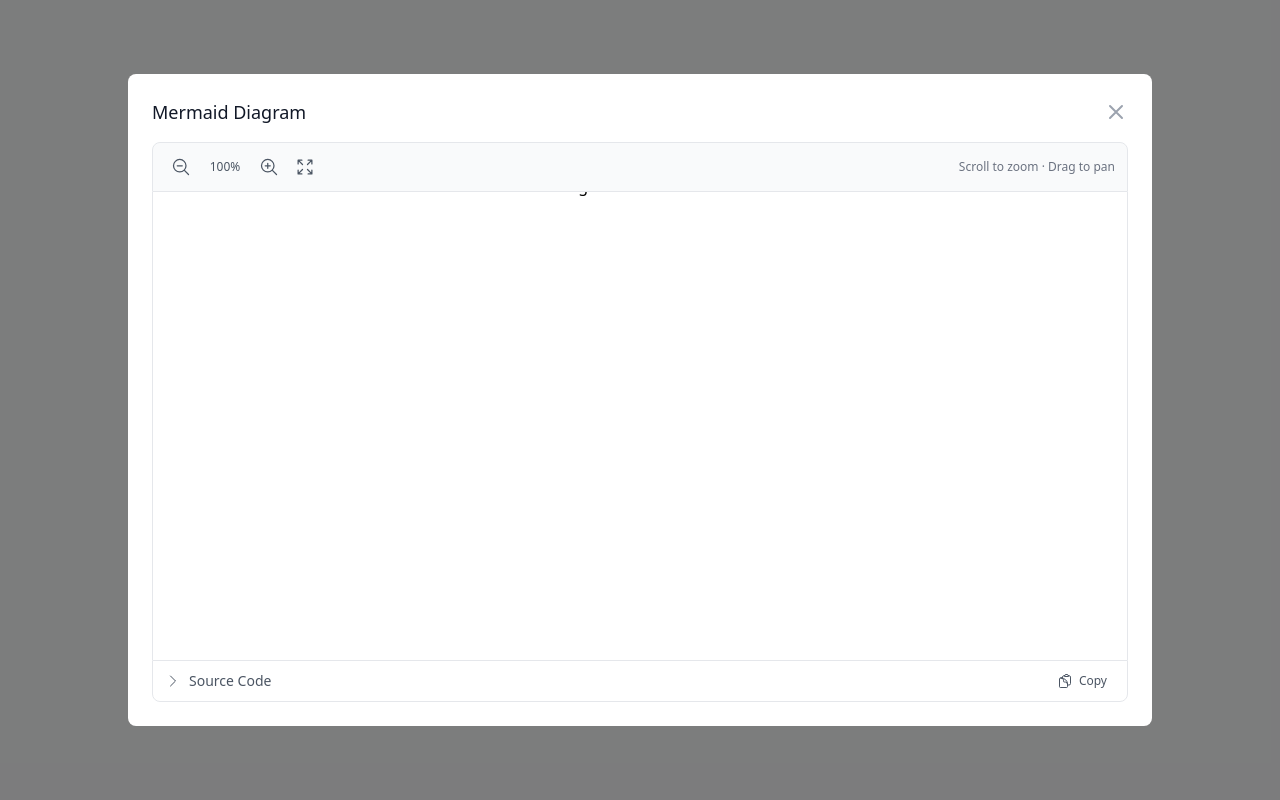
Scenario: MermaidDiagramModal › updates zoom percentage when zooming out
The width and height of the screenshot is (1280, 800).
What coordinates should you click on to do the following:
click the button named "Zoom out"
I would click on:
 (181, 167)
Its box is [165, 151, 197, 183].
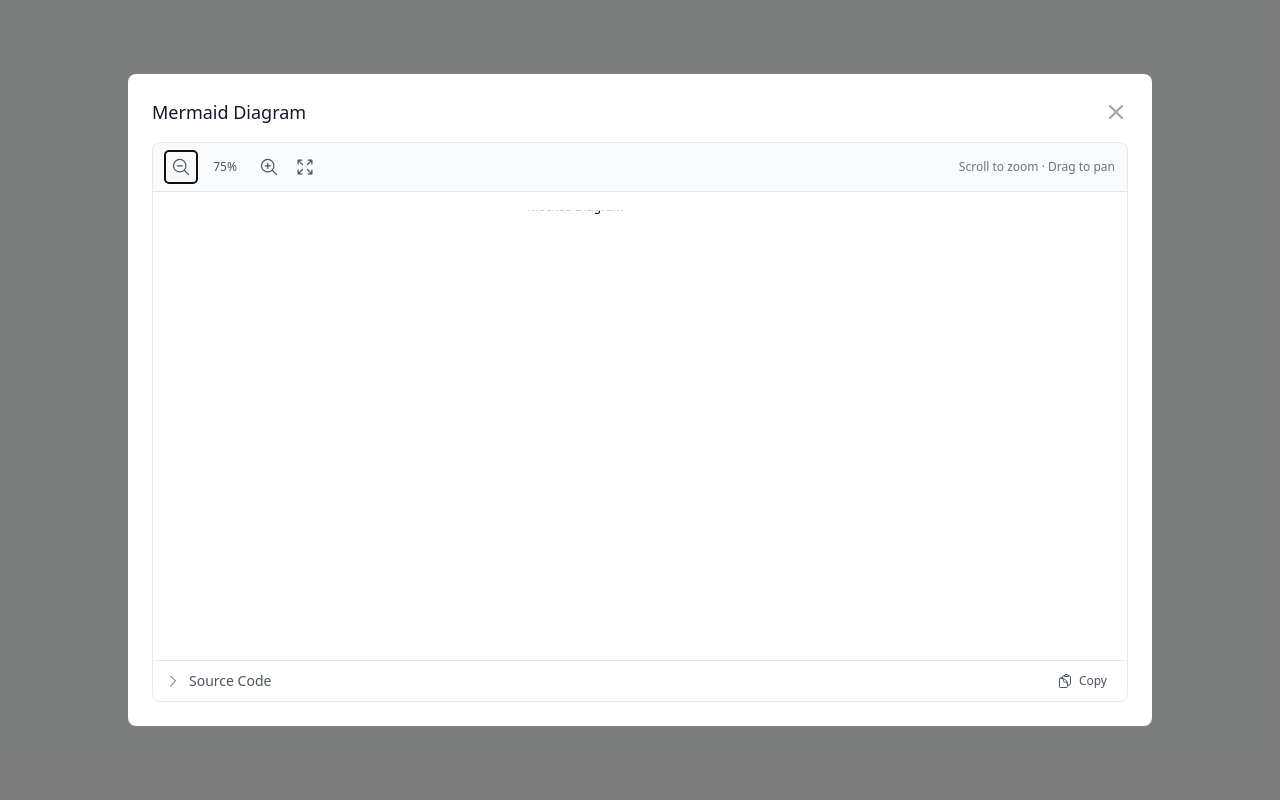
expect the text "75%" is shown: met, box [213, 158, 237, 175]
